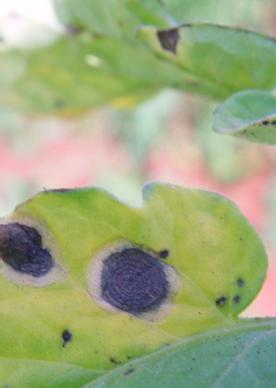Tomato Early blight leaf: (0, 181, 276, 388), (133, 24, 276, 100)
